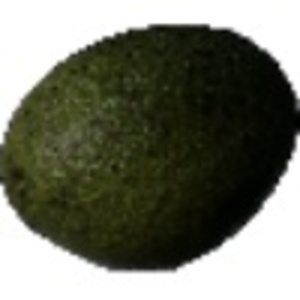abacate: (3, 21, 298, 271)
